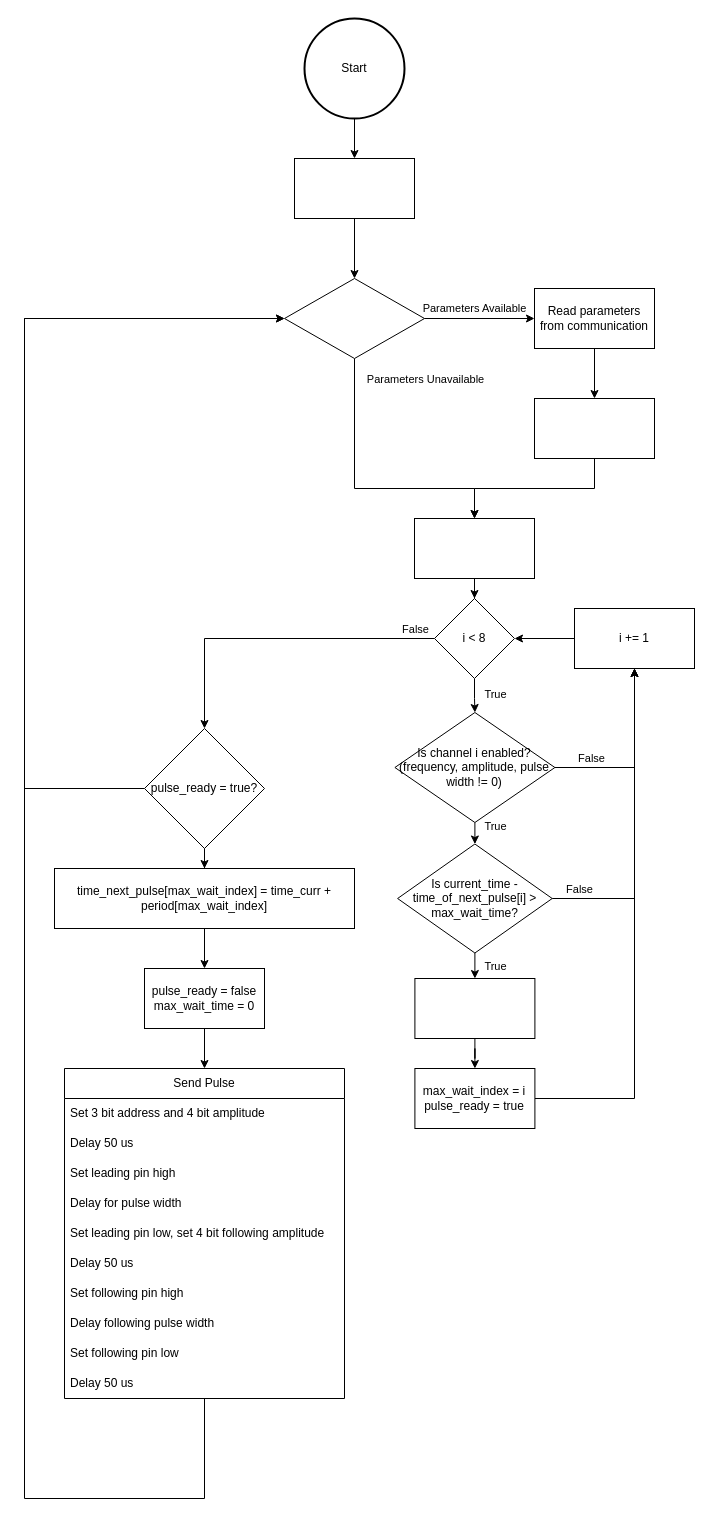
Image size: 712x1524. Some labels were removed from this diagram. The centre of each missing label's shape, as x and y in pixels:
Check serial communication for parameter info: the point at 354,318
i = 0: the point at 474,548
Initialize serial communication Initialize ports: the point at 354,188
max_wait_time = current_time - time_next_pulse[i]: the point at 474,1008
time_of_next_pulse = current_time + period: the point at 594,428
